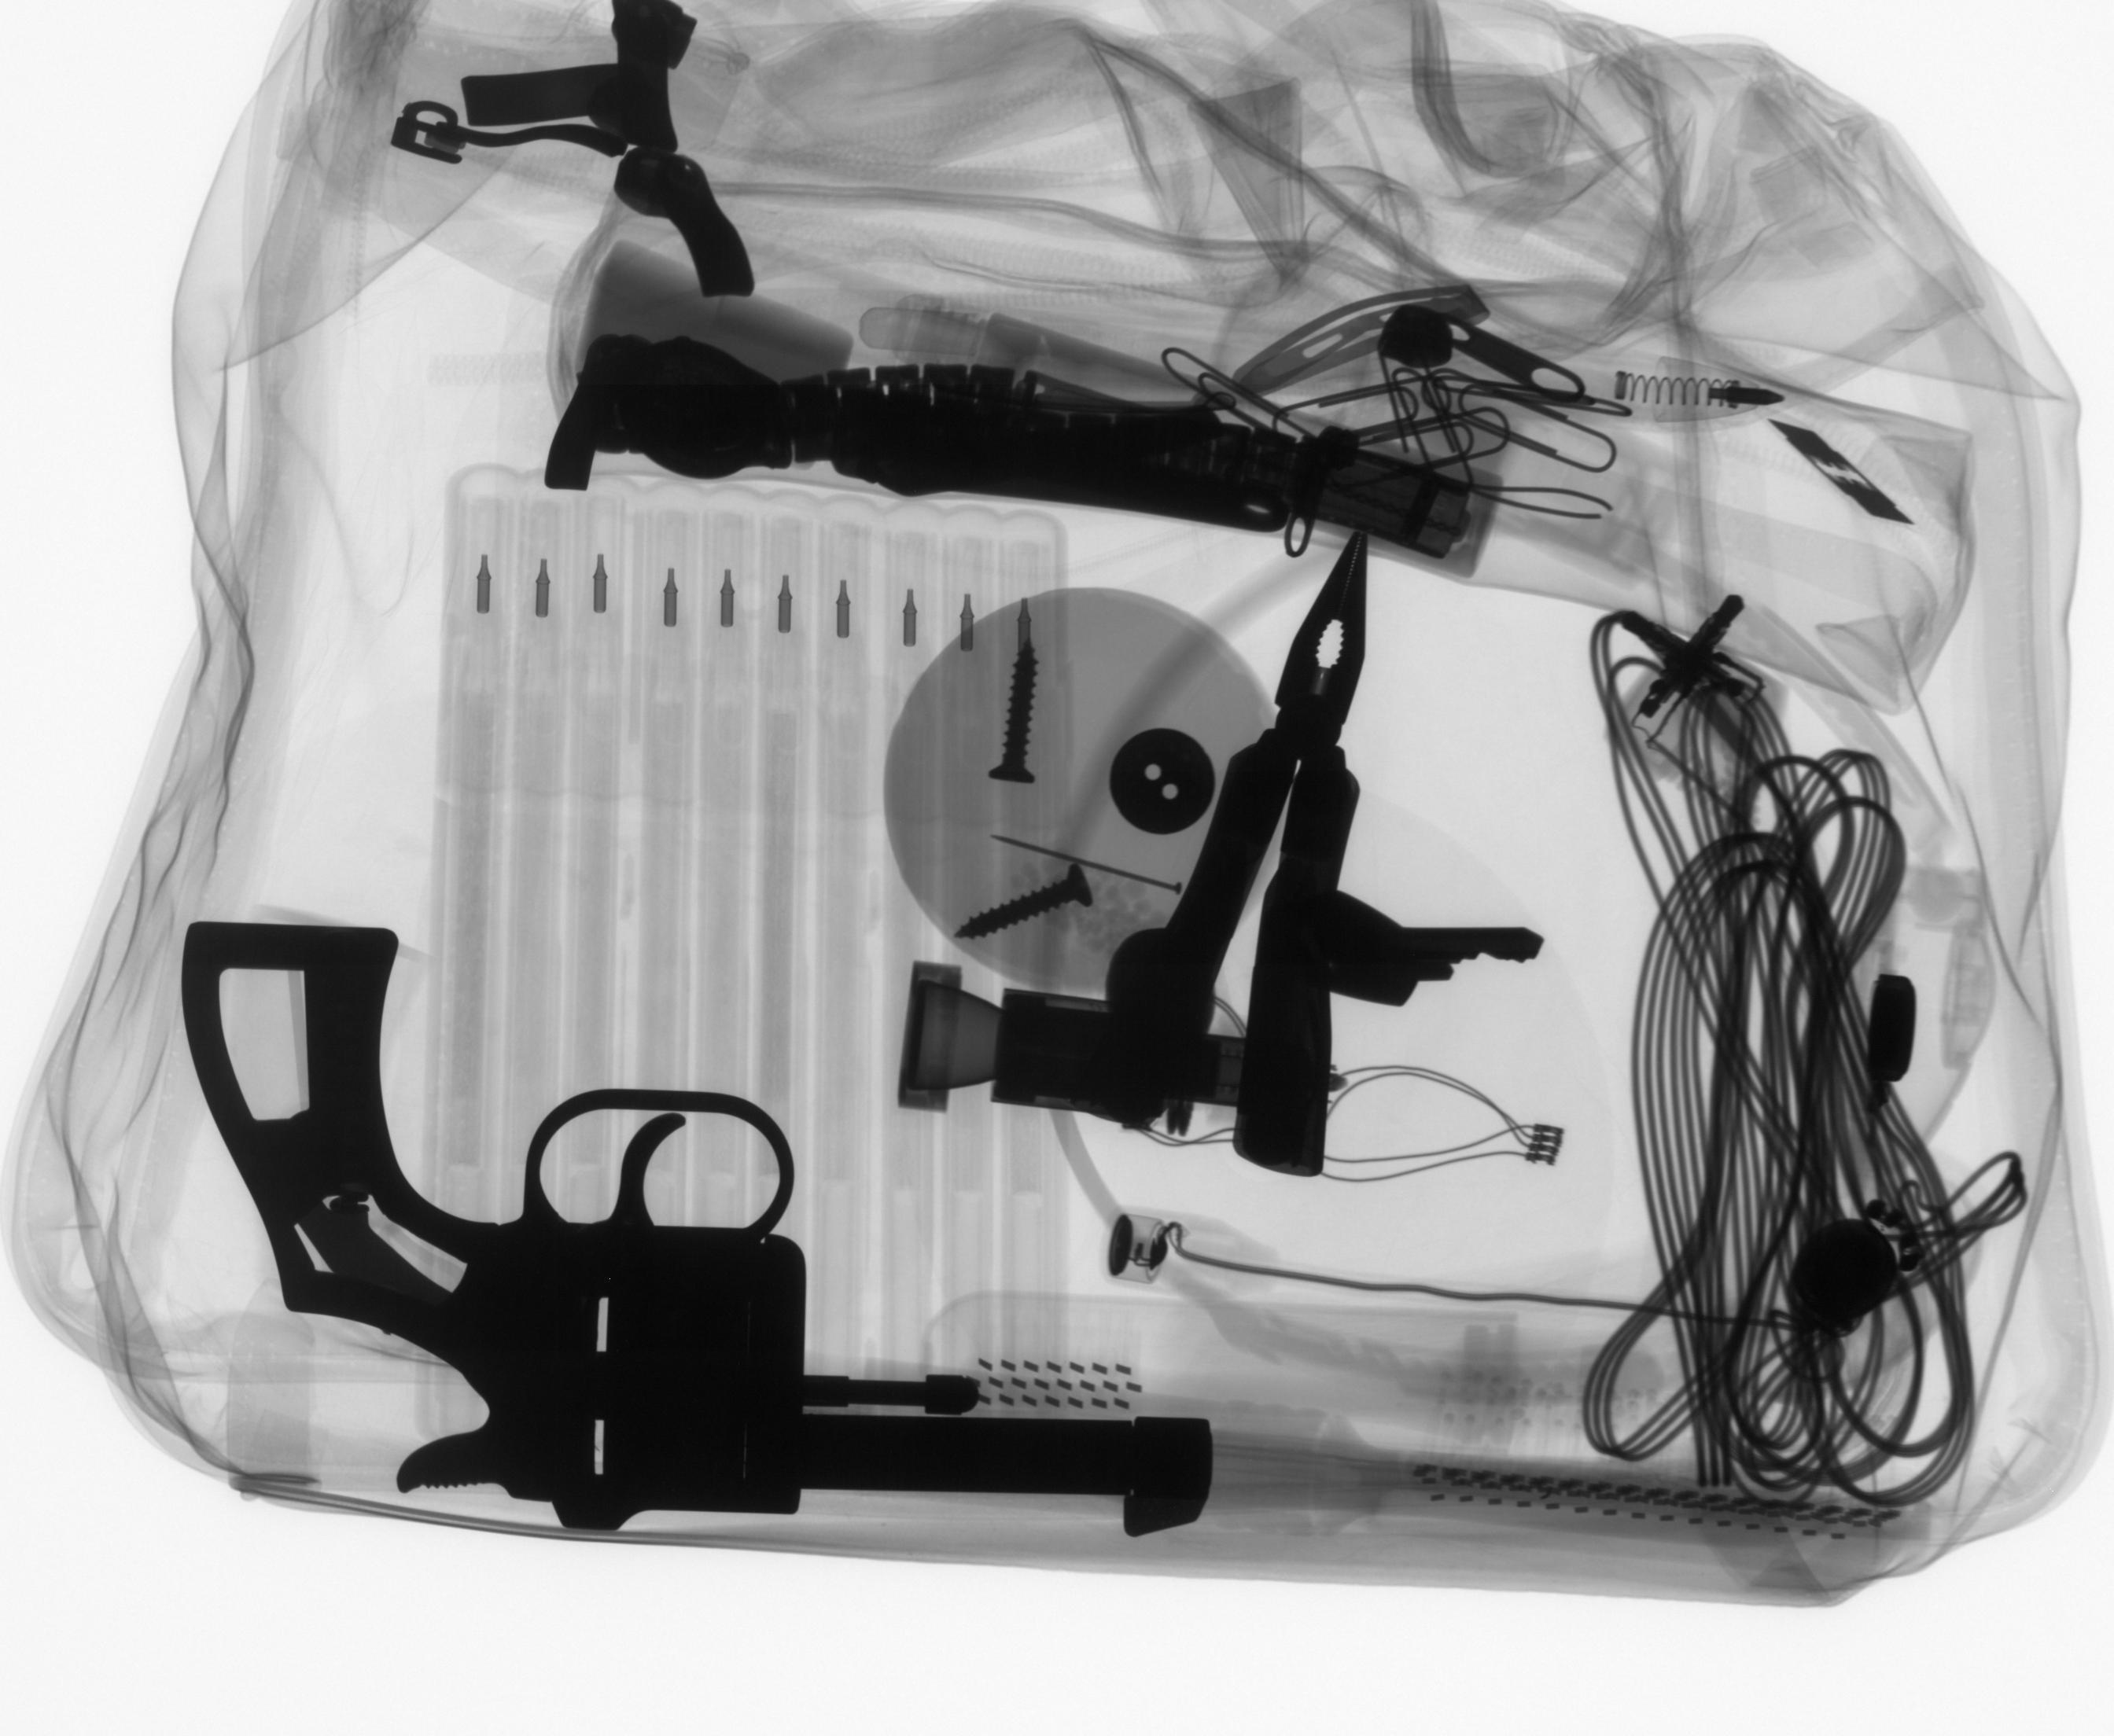Handgun: (171, 912, 1222, 1558)
